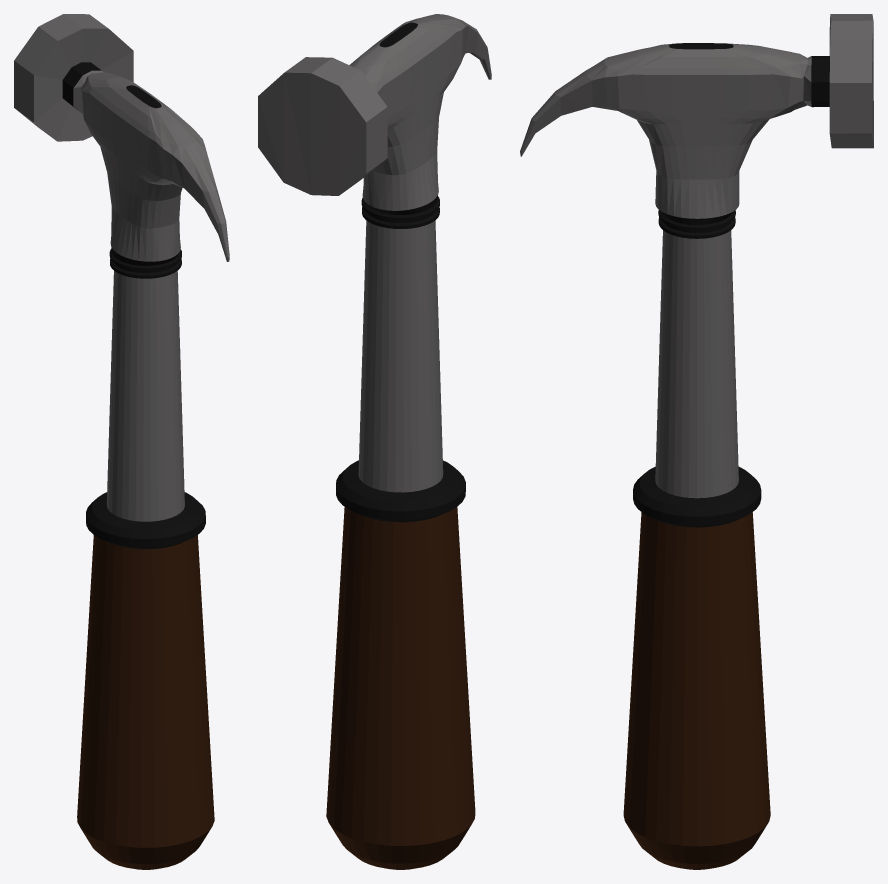
Rendered from Hammer.dae.
3 views of the same model, side by side, from view 1: azimuth 30°, elevation 25°; view 2: azimuth 150°, elevation 25°; view 3: azimuth 270°, elevation 25° (orthographic). The views are drawn at different scales.
Visible parts, largest first — view 1: Hammer; view 2: Hammer; view 3: Hammer.
Part boxes in pixels (box(x1,y1,x2,y2)): Hammer: box(14, 14, 229, 869); Hammer: box(258, 14, 491, 869); Hammer: box(520, 14, 873, 869).
Size of the model in its own units: 0.3109 by 0.7477 by 1.95.
